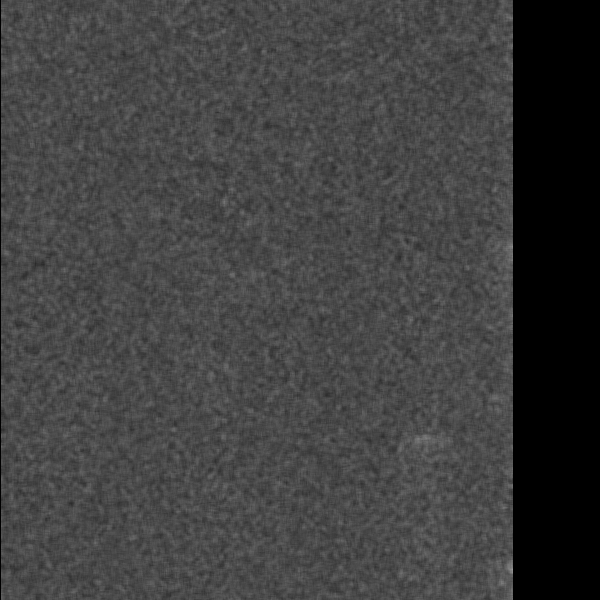spark: (404, 428, 449, 459)
